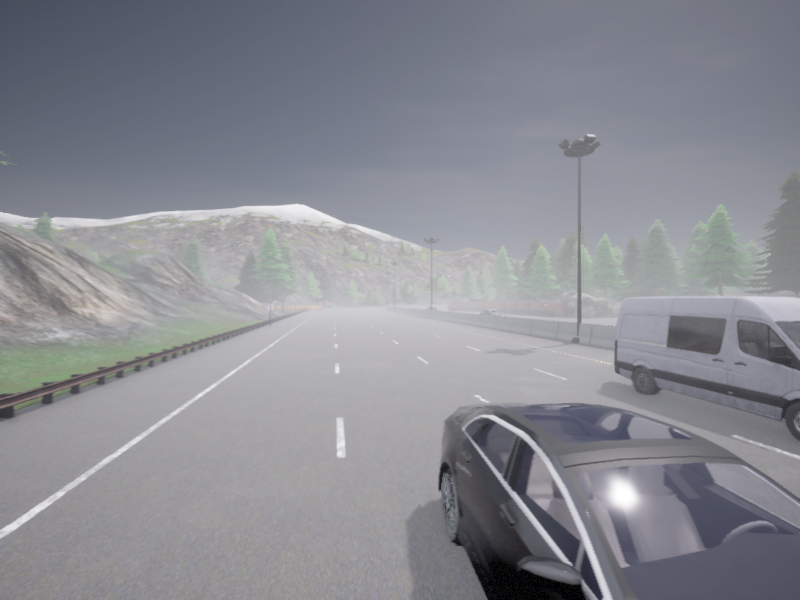vehicle: (438, 402, 799, 599), (614, 296, 799, 440), (479, 309, 500, 315), (447, 305, 457, 310), (424, 306, 435, 309)
